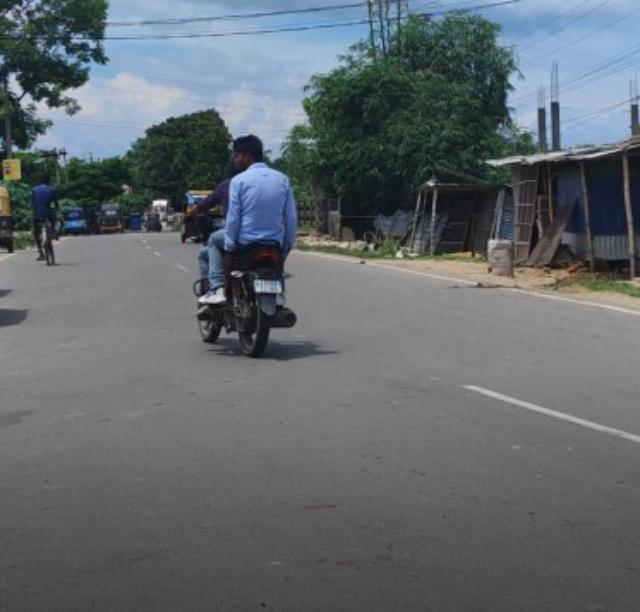licensePlate: (179, 130, 300, 361), (255, 278, 284, 294)
withoutHelmet: (226, 135, 266, 168)
